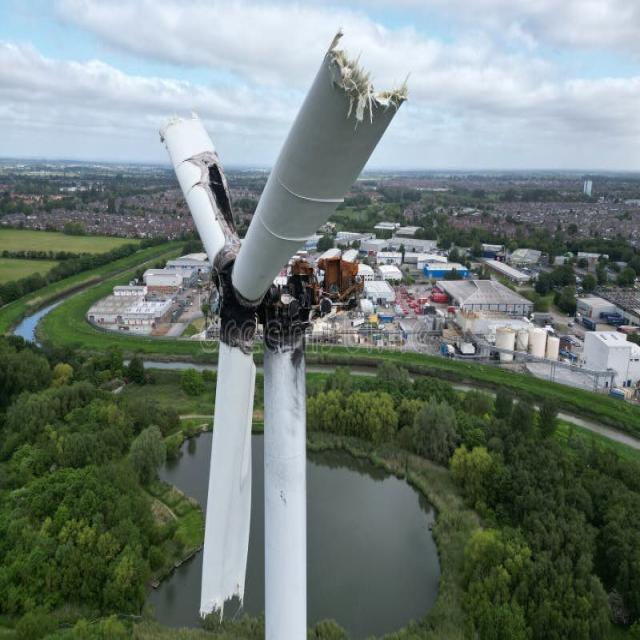damaged-blade: (232, 38, 404, 303), (200, 341, 255, 614), (160, 114, 240, 267)
